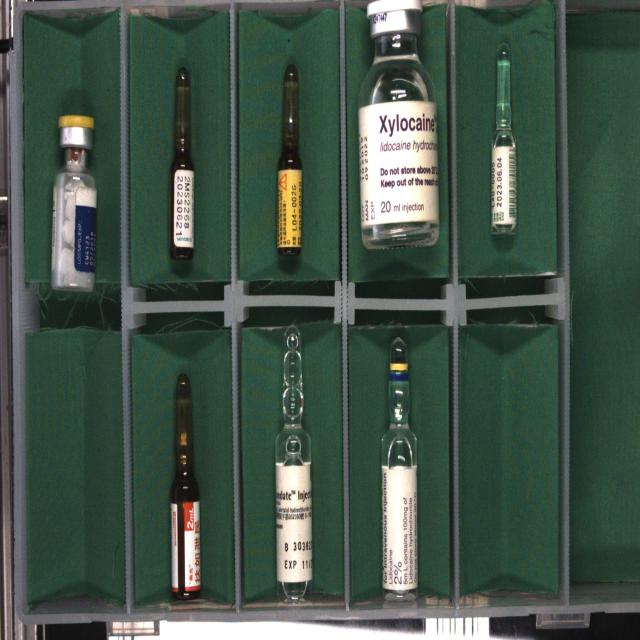Vials: (358, 0, 439, 249), (51, 115, 97, 291)
